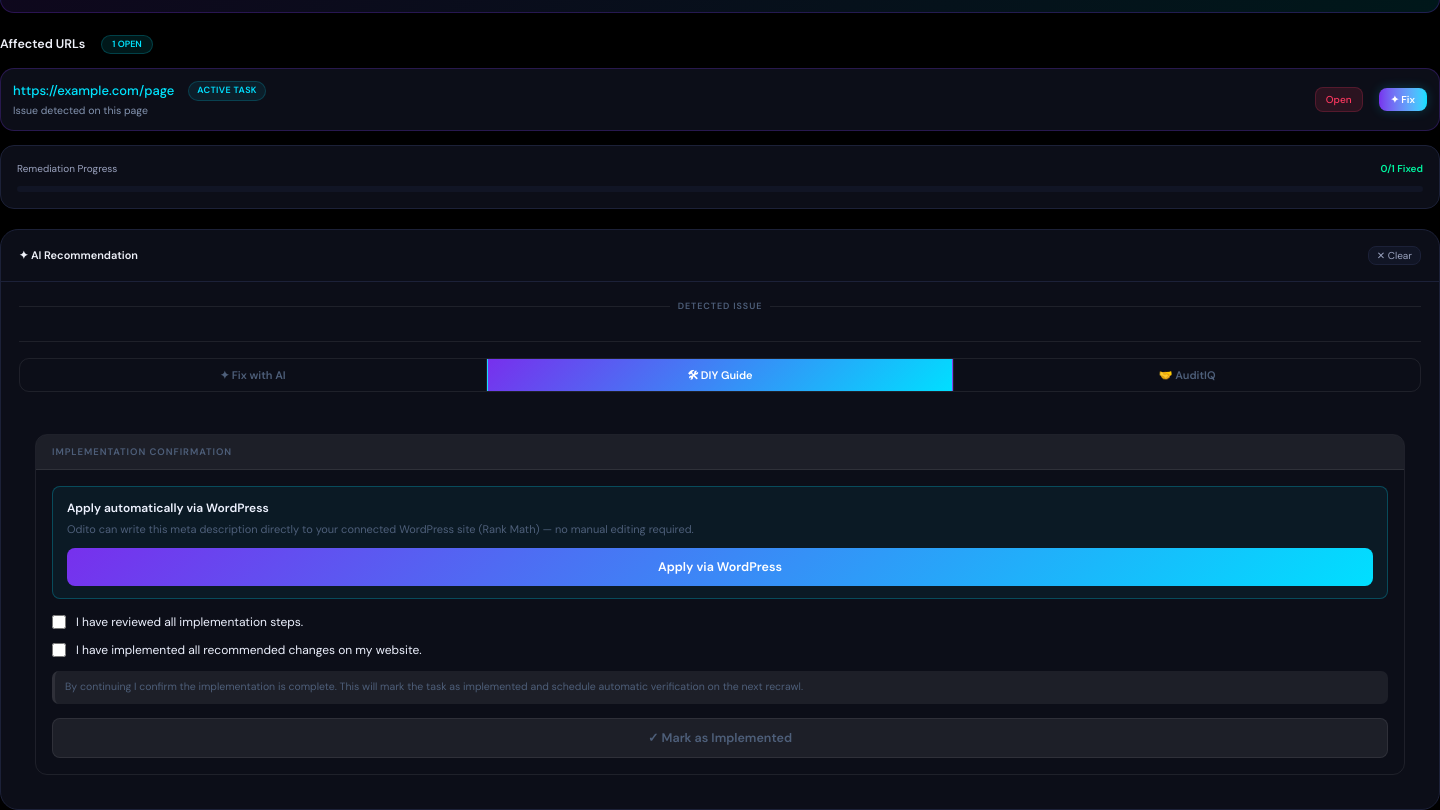
Test case: IssueDetailView — WordPress apply-fix gating (recommendation linkage bug fix) › if the backend still rejects with RECOMMENDATION_REQUIRED (a race the frontend gate can't fully close), Apply Fix becomes disabled rather than staying clickable
(page scrolled)
Click the button "Apply via WordPress". click: click(720, 567)
box: 67,548 -> 1373,586
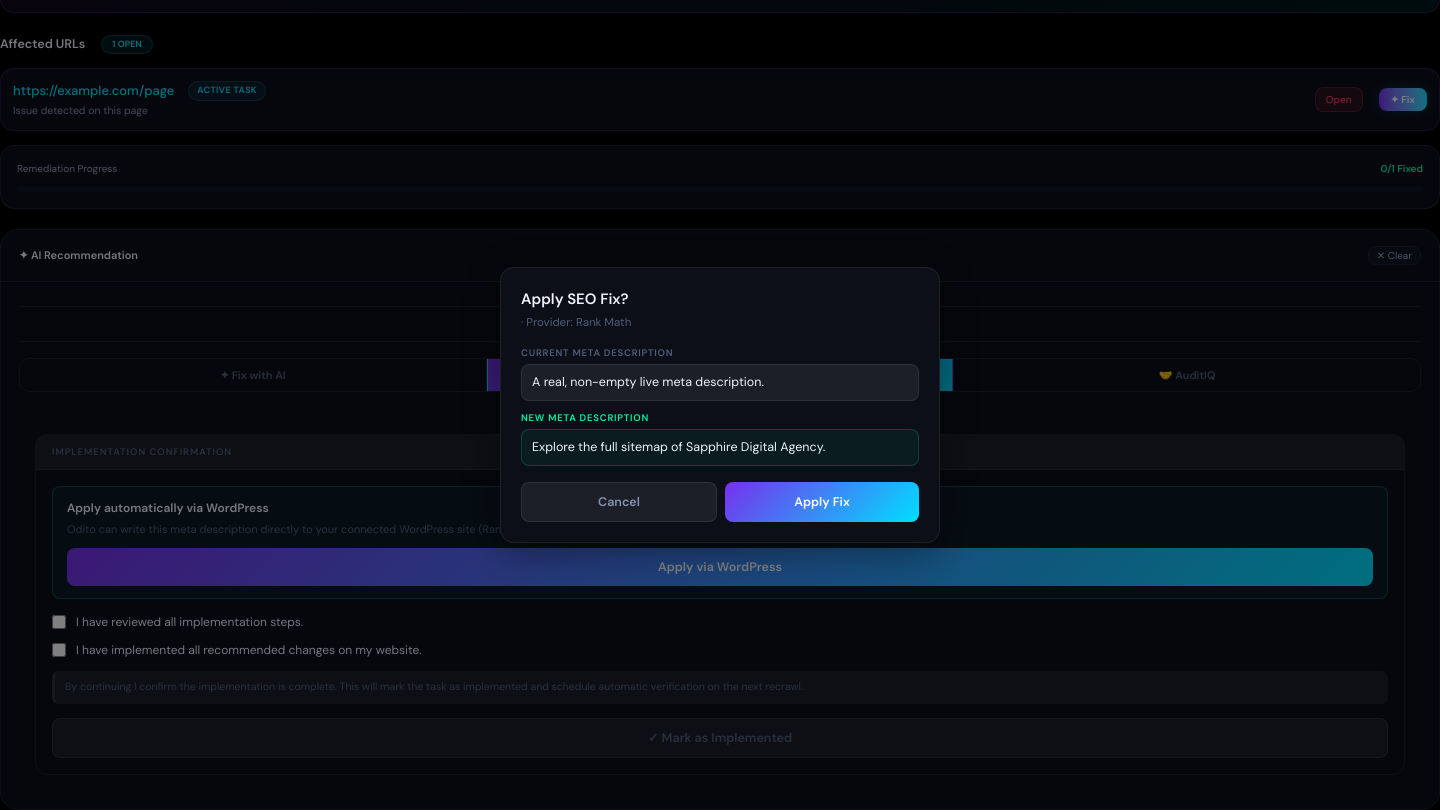
Click the button "Apply Fix". click: click(822, 502)
box: 725,482 -> 919,522
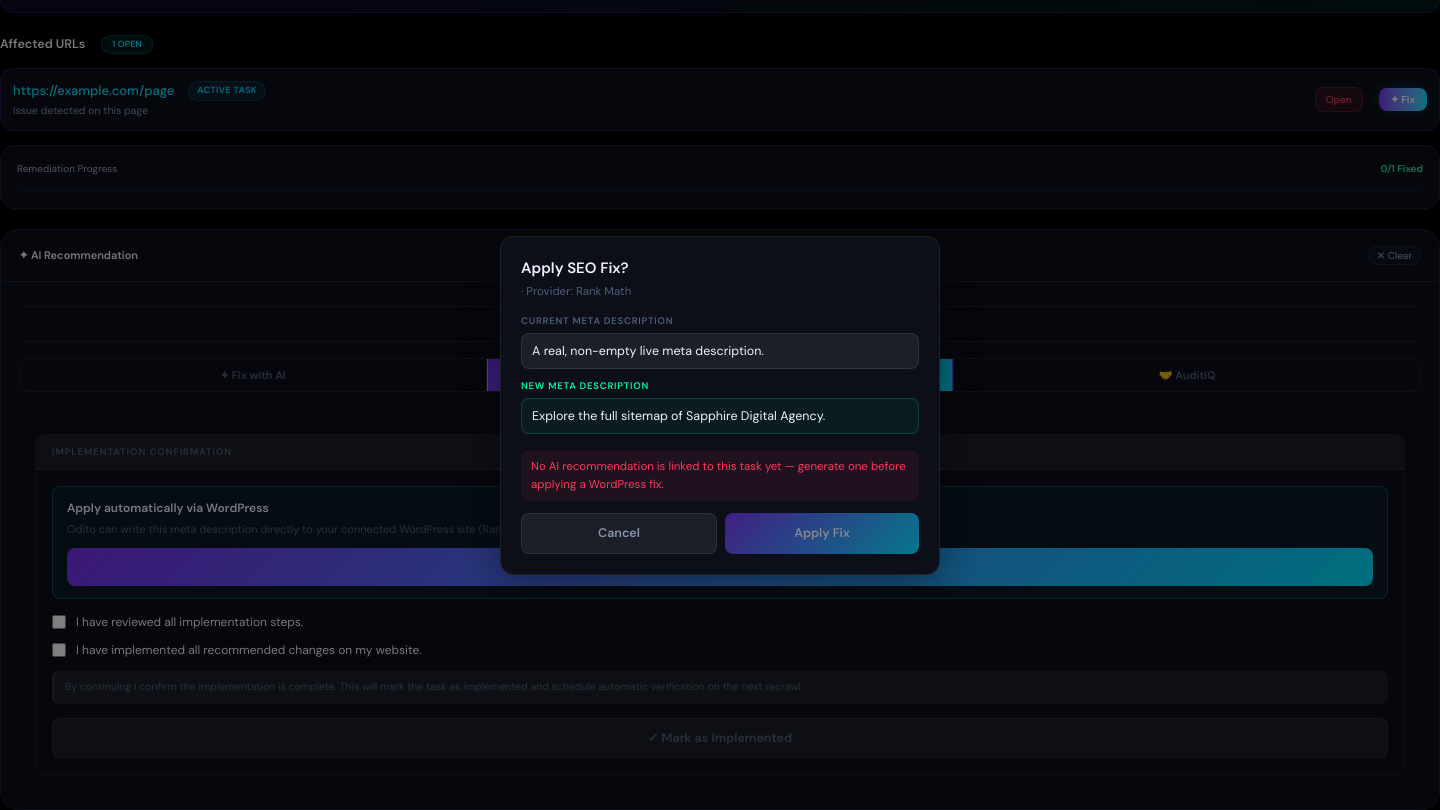
Expected: the button "Apply Fix" is disabled, 725,513 -> 919,554
Expected: the text "No AI recommendation is linked to this task" is shown, 531,459 -> 906,492
